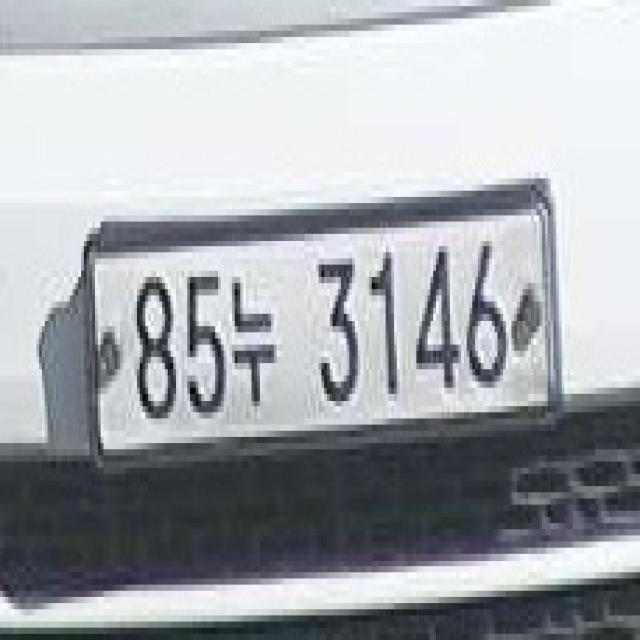plat: (67, 176, 563, 463)
